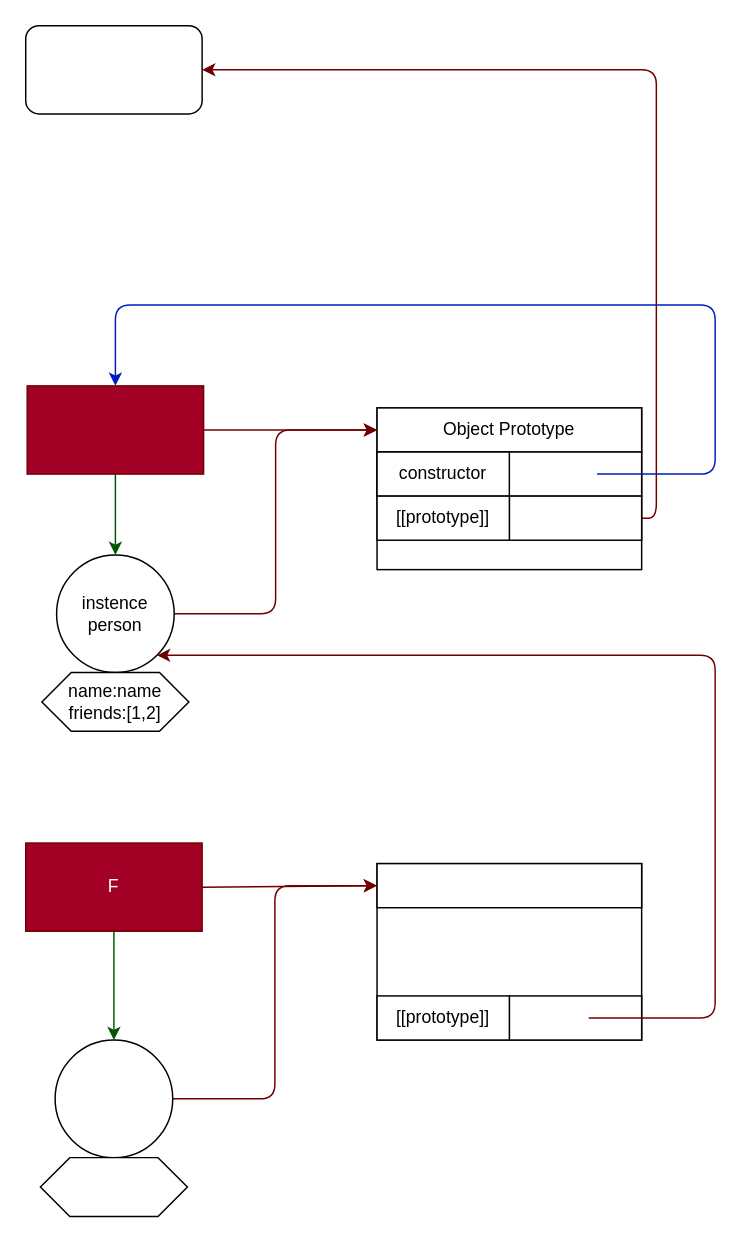
Image size: 753x1242. Some labels were removed from this diagram. Each missing label, with the centre of its shape:
instence anotherPerson: point (113, 1098)
null: point (113, 69)
Object: point (115, 429)
SuperType Prototype: point (509, 885)
